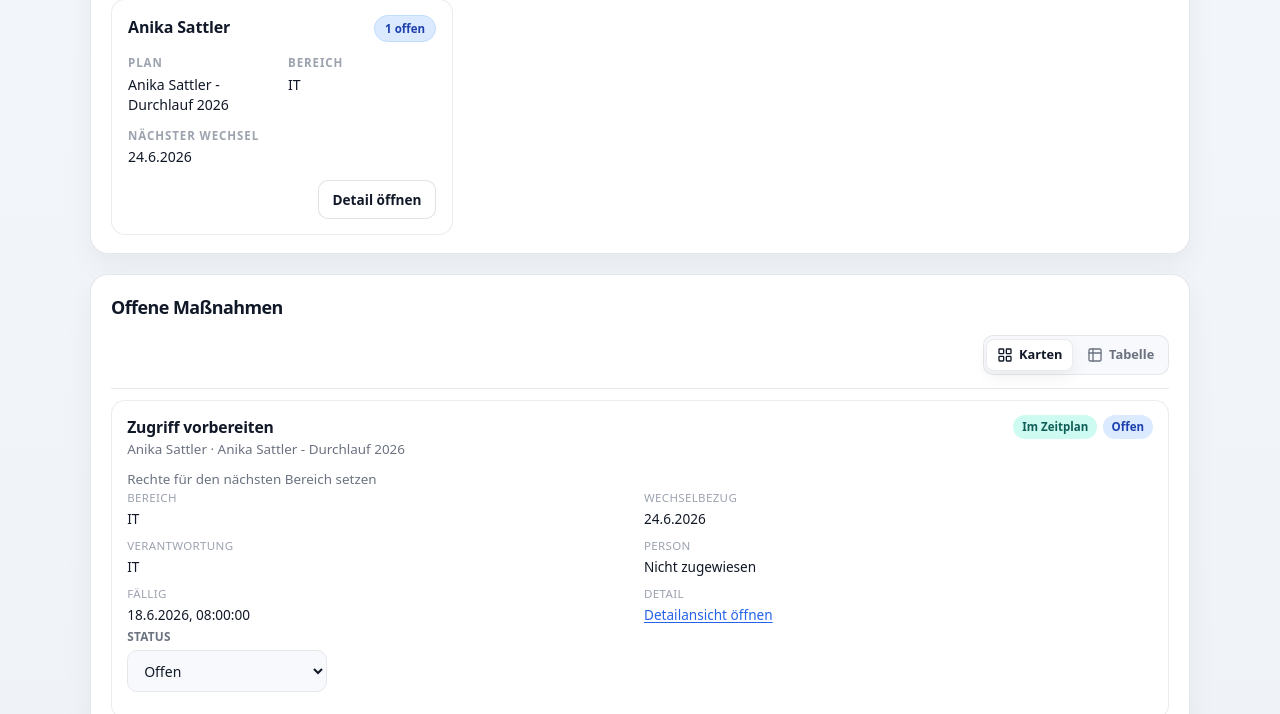
Test case: RotationOperationsPage › offers a table mode for rotation task triage
The image size is (1280, 714).
(page scrolled)
What coordinates should you click on to do the following:
click the button "Tabelle"
I would click on:
 (1121, 355)
Its box is [1077, 339, 1165, 371].
(page scrolled)
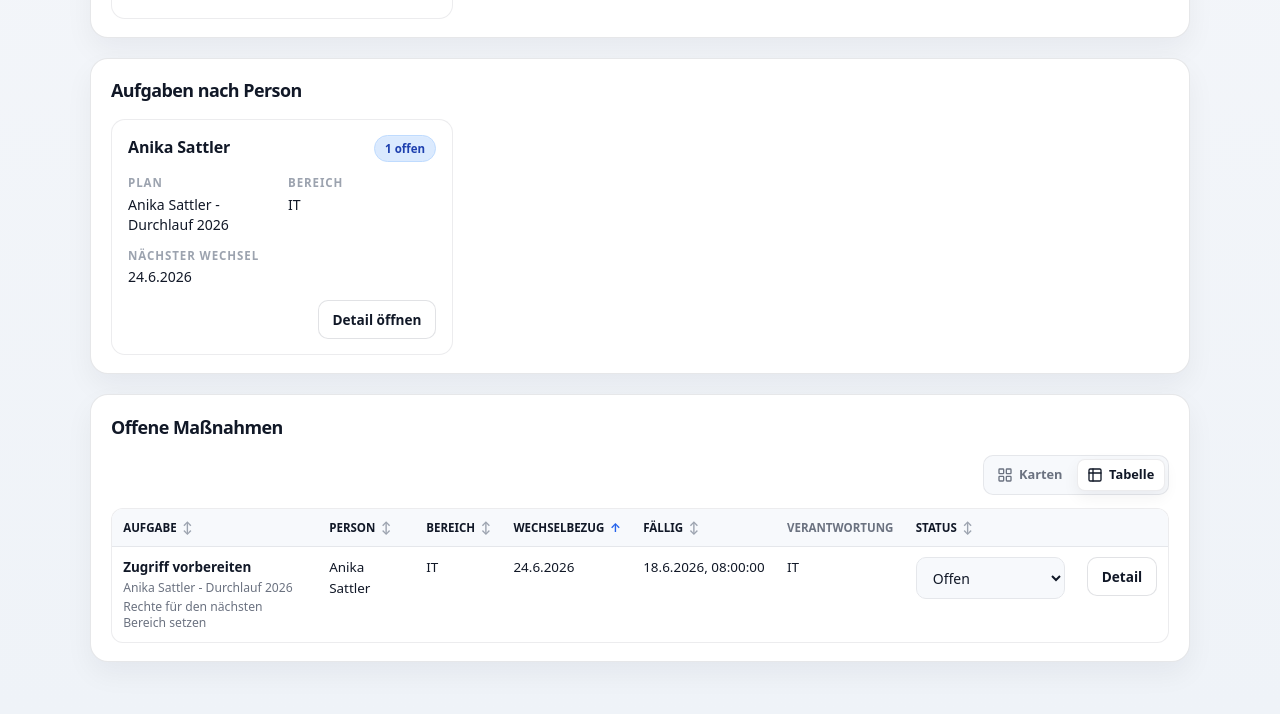
Expected: the button "Wechselbezug" is shown, [513, 519, 621, 537]
Now the table named "Tabellenansicht Rotationsaufgaben" is shown, box [112, 509, 1168, 642]
